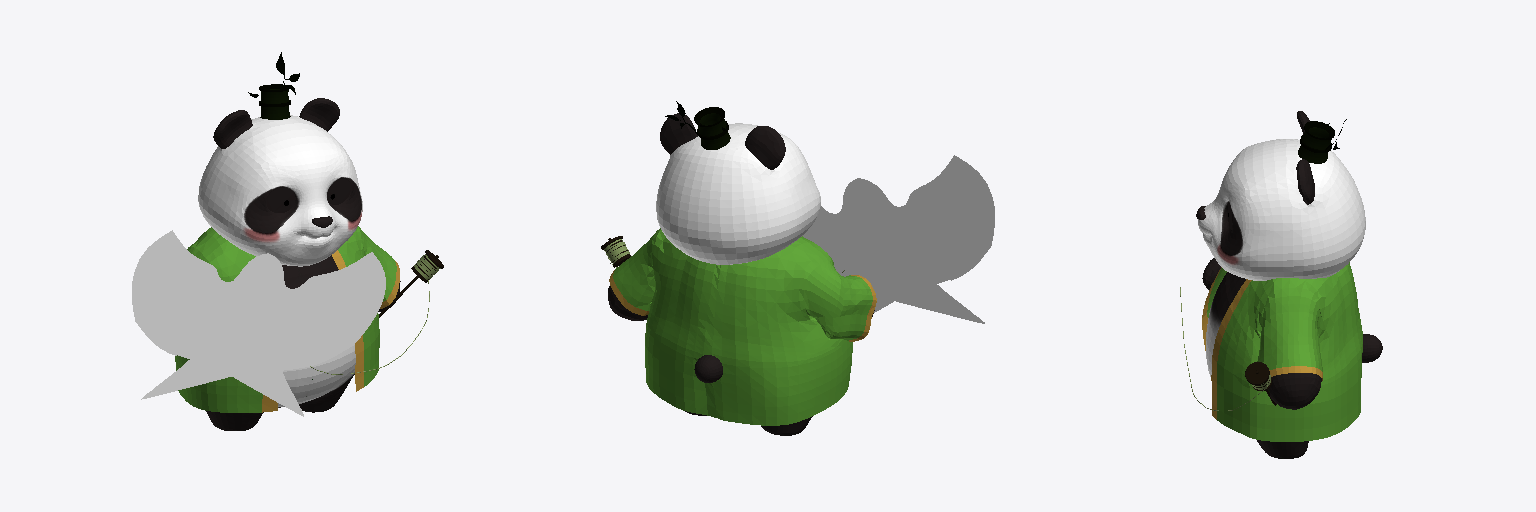
3 views of the same model, side by side, from view 1: azimuth 30°, elevation 25°; view 2: azimuth 150°, elevation 25°; view 3: azimuth 270°, elevation 25° (orthographic).
Visible parts, largest first — view 1: ??, panda_body007, 009, panda_body007.001, ??.001_1, 009.002, ??.002; view 2: 009, panda_body007, ??, ??.001_1, panda_body007.001, 009.001, ??.002; view 3: 009, panda_body007, panda_body007.001, ??.001_1, 009.002, ??.002.
Part boxes in pixels (x1,y1,x2,y2): ??: (132, 230, 385, 416); panda_body007: (198, 98, 362, 266); 009: (175, 226, 396, 412); panda_body007.001: (206, 255, 400, 430); ??.001_1: (259, 84, 290, 119); 009.002: (262, 250, 363, 412); ??.002: (379, 250, 443, 317); 009: (613, 228, 872, 425); panda_body007: (656, 113, 820, 382); ??: (803, 155, 994, 323); ??.001_1: (694, 107, 730, 149); panda_body007.001: (608, 286, 812, 435); 009.001: (609, 270, 876, 341); ??.002: (601, 236, 630, 267); 009: (1207, 262, 1362, 441); panda_body007: (1196, 111, 1382, 362); panda_body007.001: (1206, 272, 1321, 458); ??.001_1: (1298, 121, 1334, 163); 009.002: (1202, 267, 1251, 419); ??.002: (1245, 362, 1276, 405).
Bounding box in the file's own units: 10.58 × 9.53 × 5.36.
Materials: 10 (1 with a texture image).